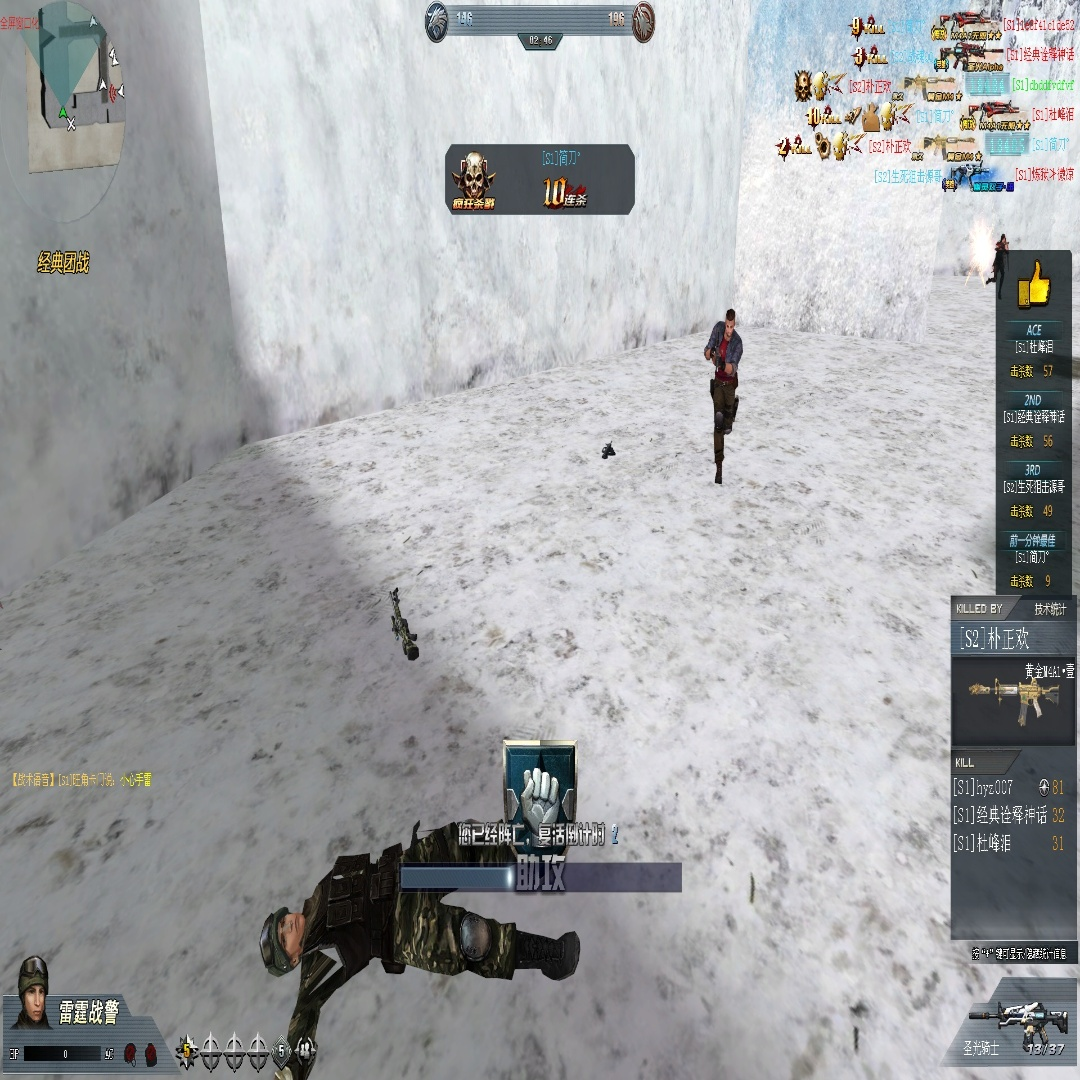t: (703, 306, 743, 485)
